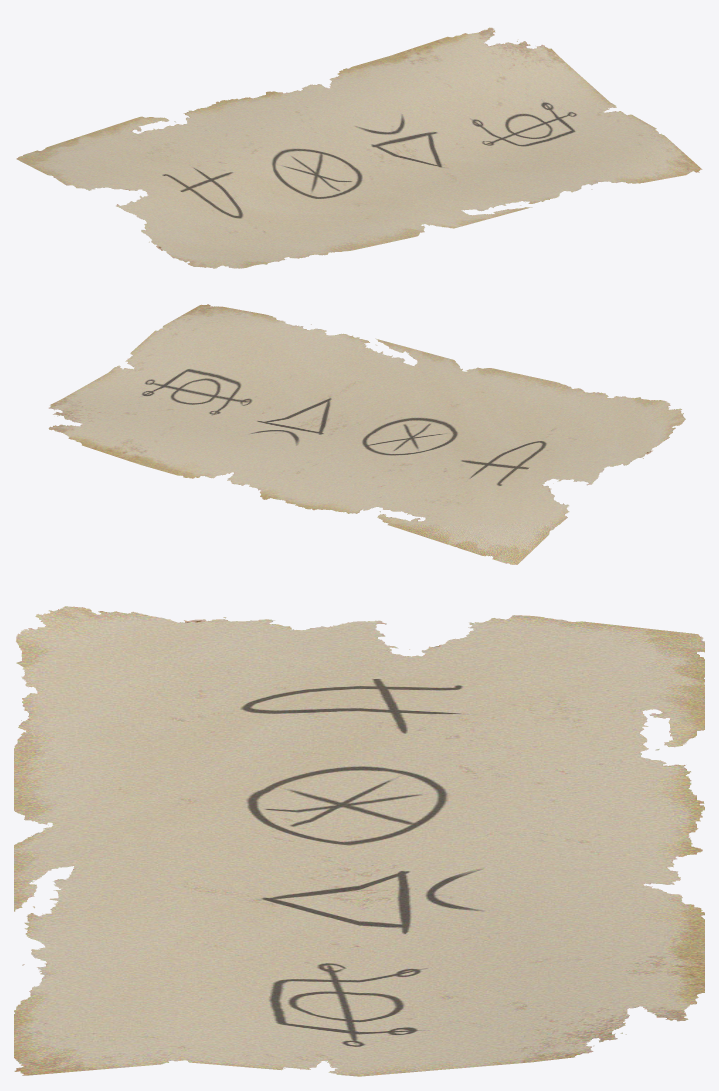
File: Recipe_3DModel.FBX
3 renders of one model, top to bottom at view 1: azimuth 30°, elevation 25°; view 2: azimuth 150°, elevation 25°; view 3: azimuth 270°, elevation 25°, orthographic. The views are drawn at different scales.
Visible parts, largest first — view 1: Plane001; view 2: Plane001; view 3: Plane001.
Boxes of the visible parts, x1,y1,x2,y2 form: Plane001: (16, 27, 702, 268); Plane001: (48, 304, 685, 564); Plane001: (14, 606, 704, 1076).
Size of the model in its own units: 67.01 by 3.08 by 43.83.
1 material, 1 textured.
